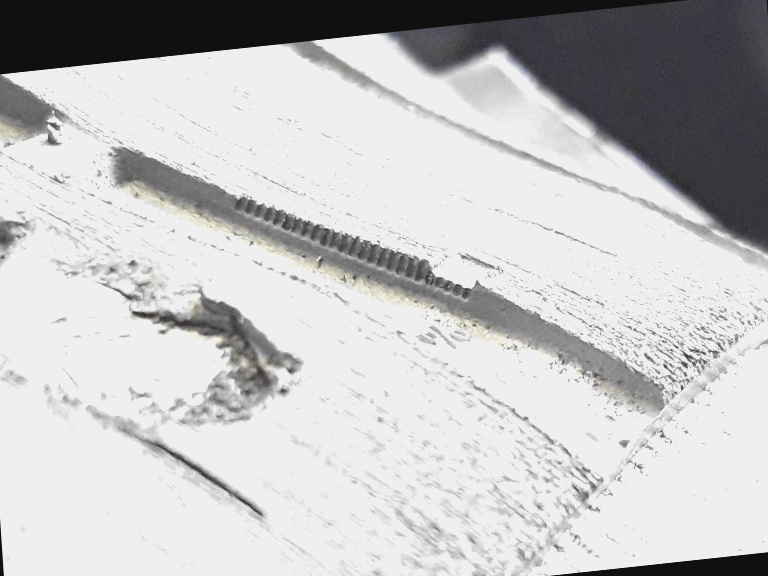temoin:0: (389, 220, 510, 320)
